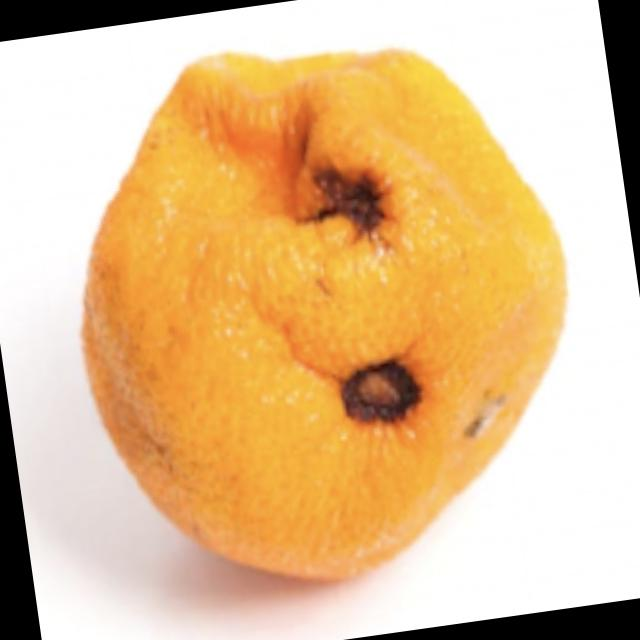rotten-orange: (46, 14, 606, 609)
